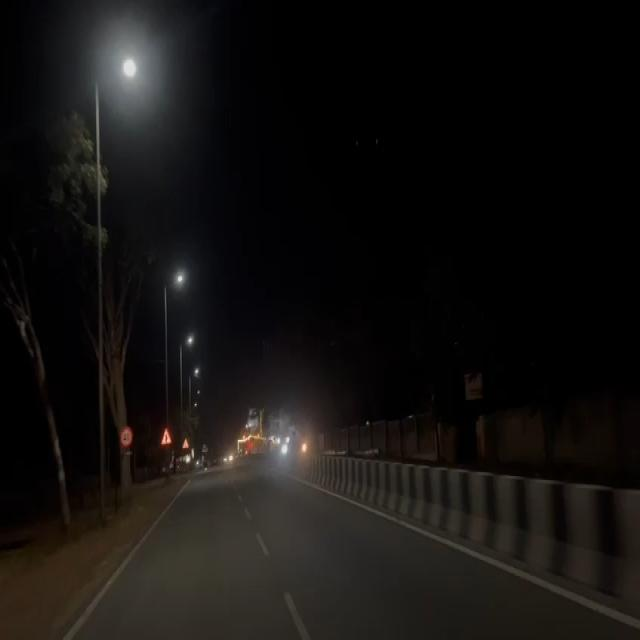bien_cam: (119, 426, 132, 449), (160, 427, 171, 448)
